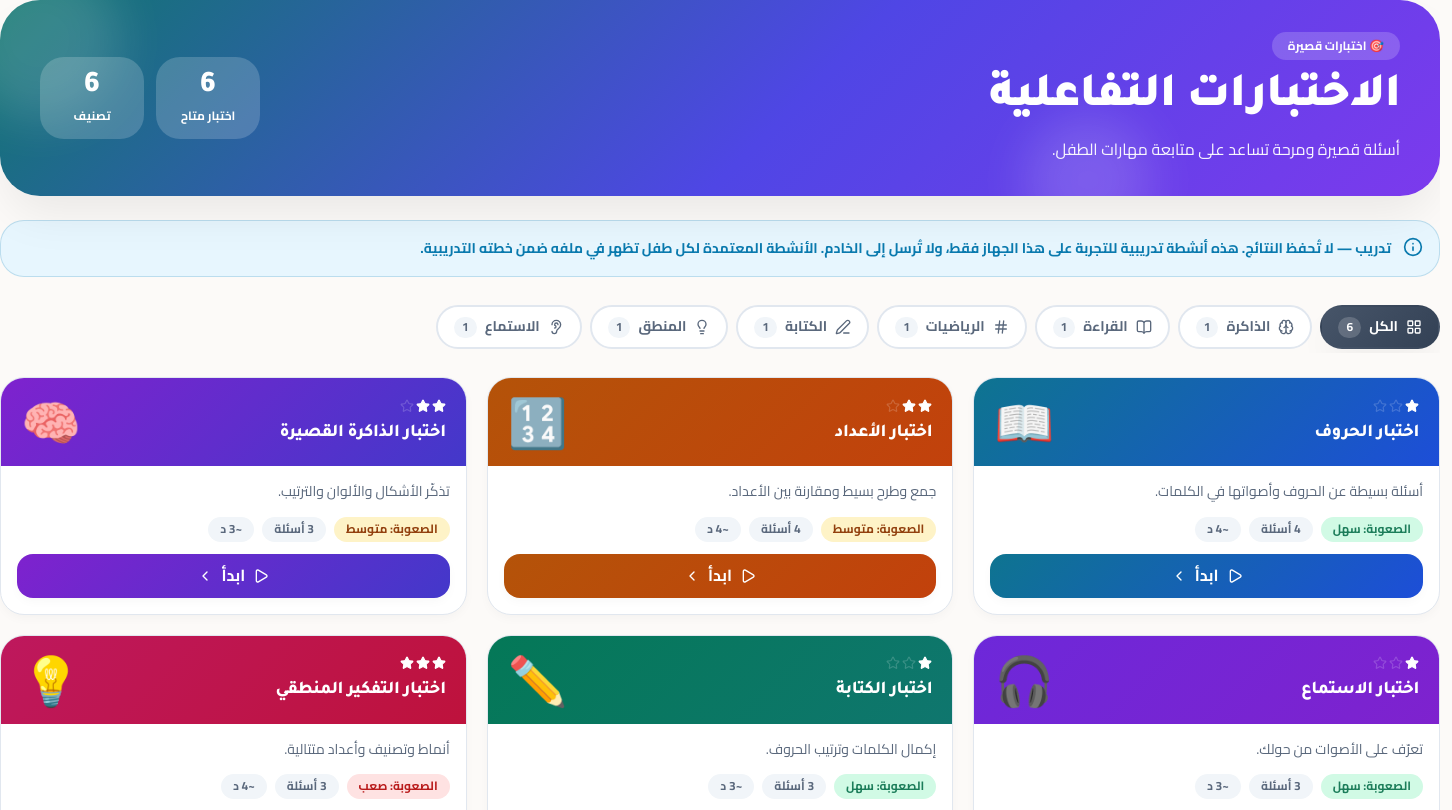
Test case: TestsCatalogPage › filters by category and updates the chip state and count
Click the button "الرياضيات 1" at (952, 327), box [877,305,1027,349]
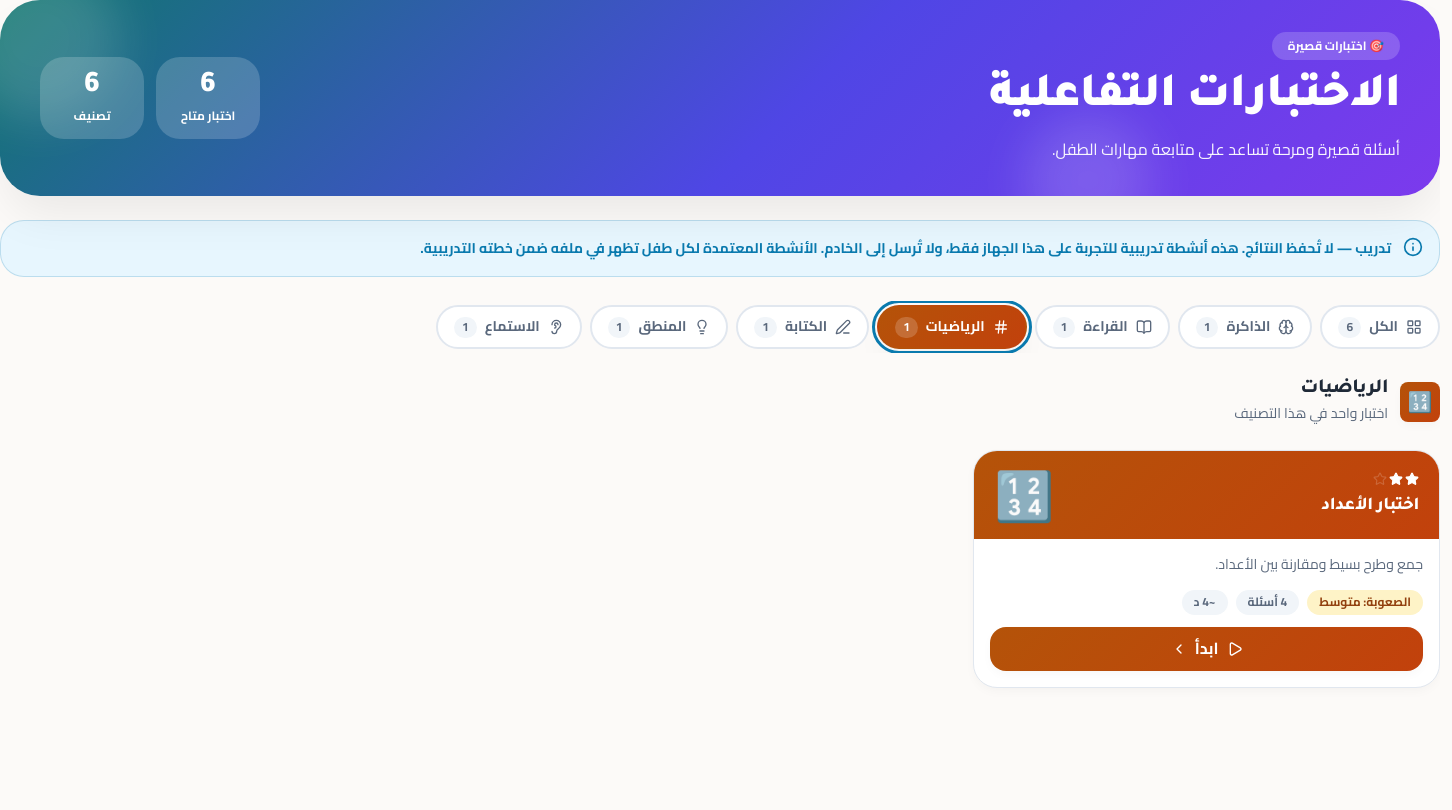
Expected: the heading "الرياضيات" is shown, [1300,379,1388,399]
Expected: the text "اختبار واحد في هذا التصنيف" is shown, [1234,402,1388,426]
